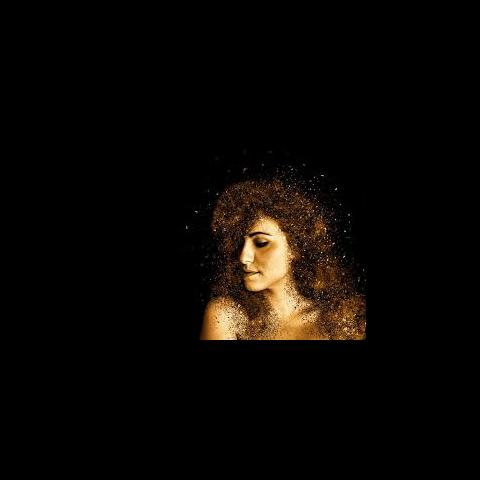closed: (242, 228, 274, 252)
